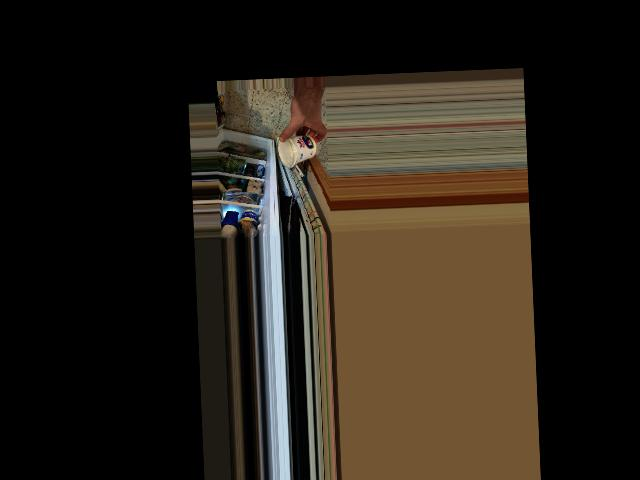cotage: (278, 131, 317, 165)
